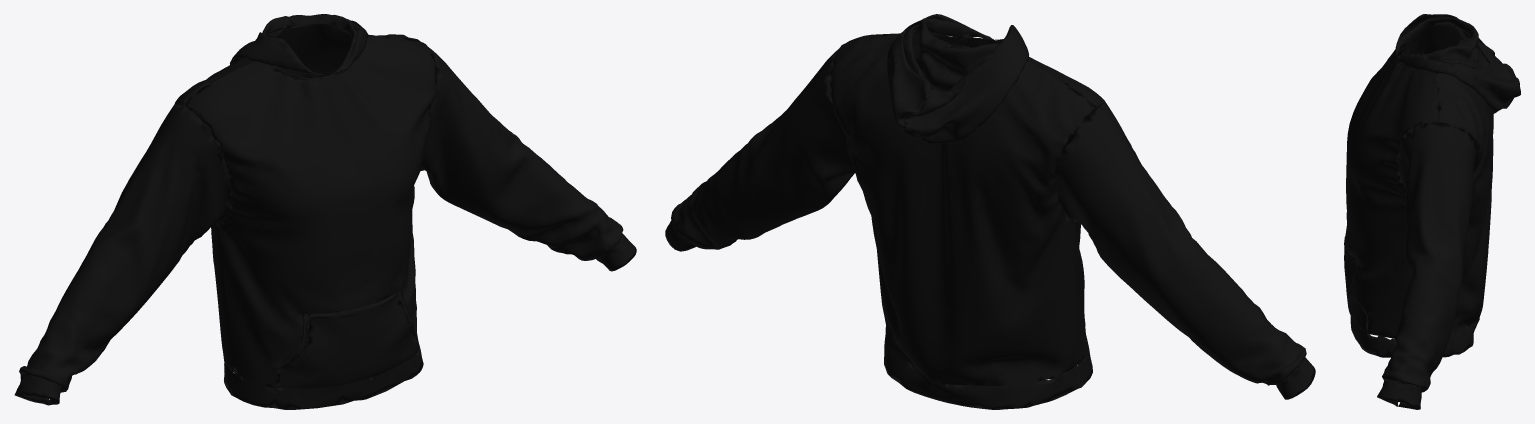
File: hoodie.glb
The picture shows the model from 3 angles, left to right: view 1: azimuth 30°, elevation 25°; view 2: azimuth 150°, elevation 25°; view 3: azimuth 270°, elevation 25°; orthographic projection. The views are drawn at different scales.
Parts seen in each view (by area): view 1: hoodie; view 2: hoodie; view 3: hoodie.
Boxes of the visible parts, x1=… form: hoodie: x1=14, y1=14, x2=636, y2=409; hoodie: x1=665, y1=14, x2=1315, y2=409; hoodie: x1=1344, y1=14, x2=1520, y2=409.
Bounding box in the file's own units: 1.83 × 0.9878 × 0.5208.
Materials: 1 (1 with a texture image).
